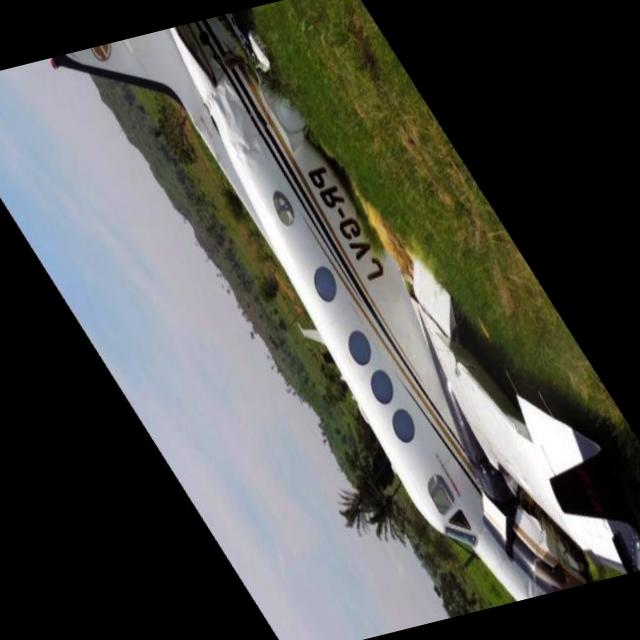dent: (206, 70, 270, 173)
